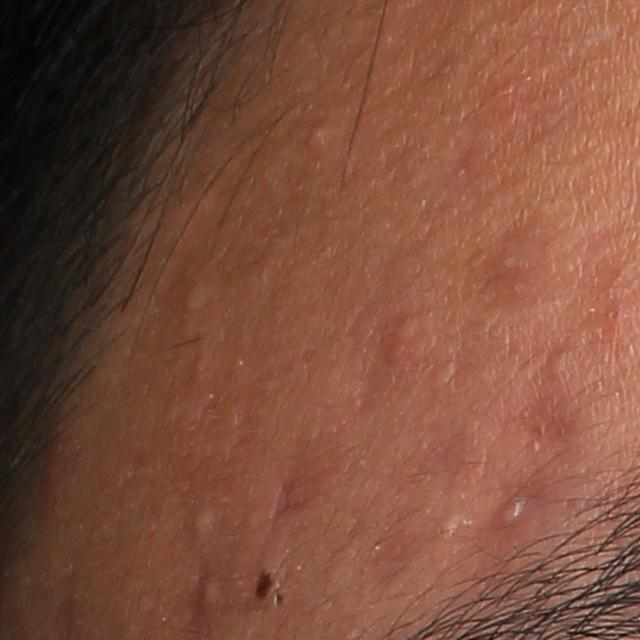comedo: (187, 499, 221, 542), (178, 278, 212, 313), (197, 573, 224, 609), (546, 348, 572, 381), (439, 505, 463, 538), (305, 119, 330, 146)
nevus: (251, 569, 275, 604)
